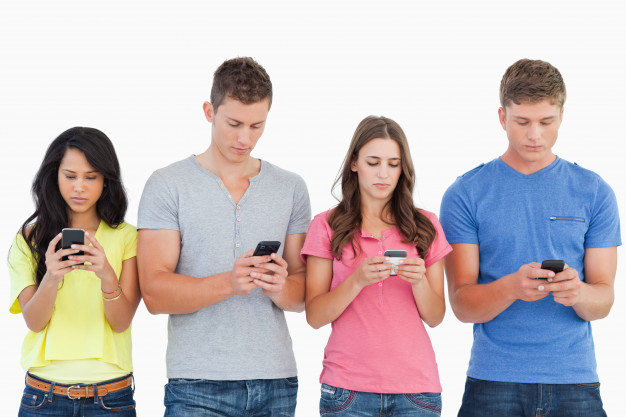person: (439, 53, 626, 291), (144, 52, 318, 272), (312, 95, 445, 311), (11, 102, 144, 313)
